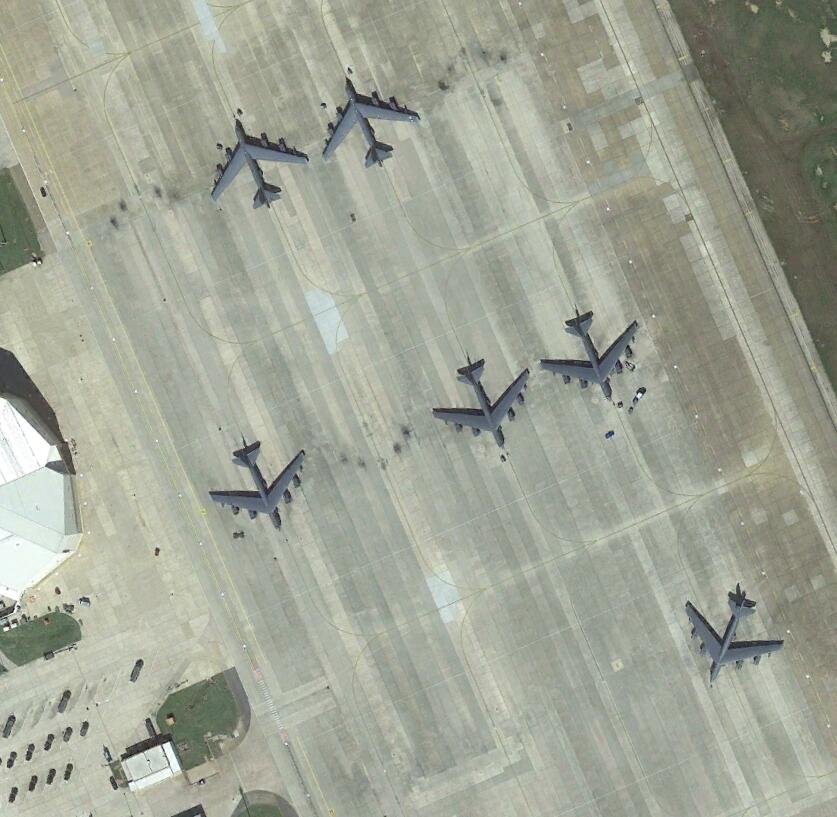A8: (678, 584, 789, 690), (425, 350, 534, 453), (205, 117, 315, 217), (207, 433, 313, 534), (539, 305, 643, 407), (319, 77, 423, 174)
